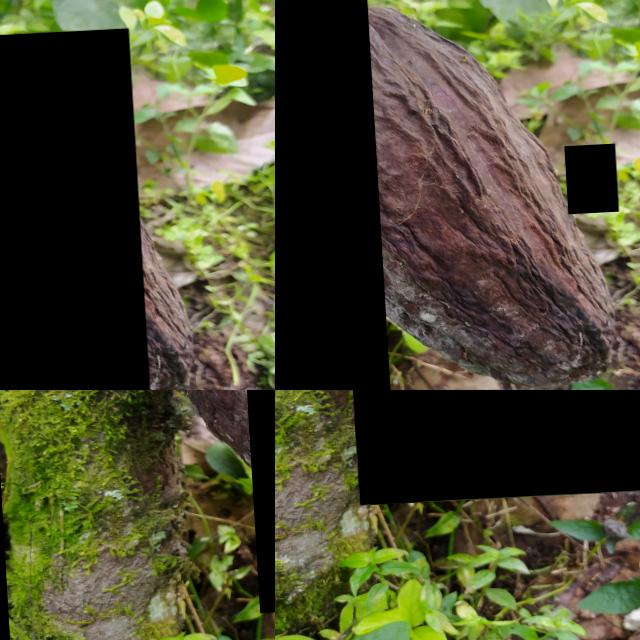Fitoftora: (0, 33, 148, 390), (275, 0, 384, 390), (335, 390, 640, 507), (372, 341, 408, 390)
Sana: (0, 462, 65, 596), (562, 150, 615, 219)
